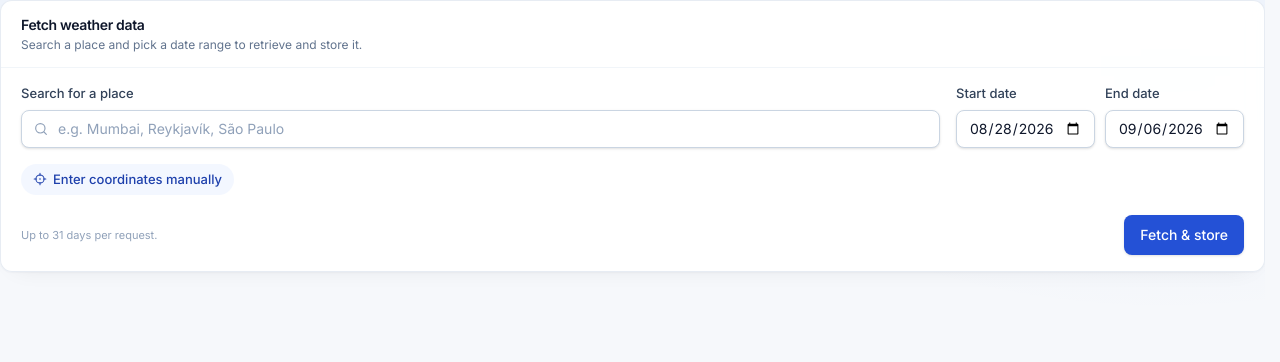
MainFetchPanel › hides coordinate fields until the disclosure is opened
Expected: the field labelled "latitude" is not shown
Click the button "Enter coordinates manually" at (128, 179), box [21,164,234,195]
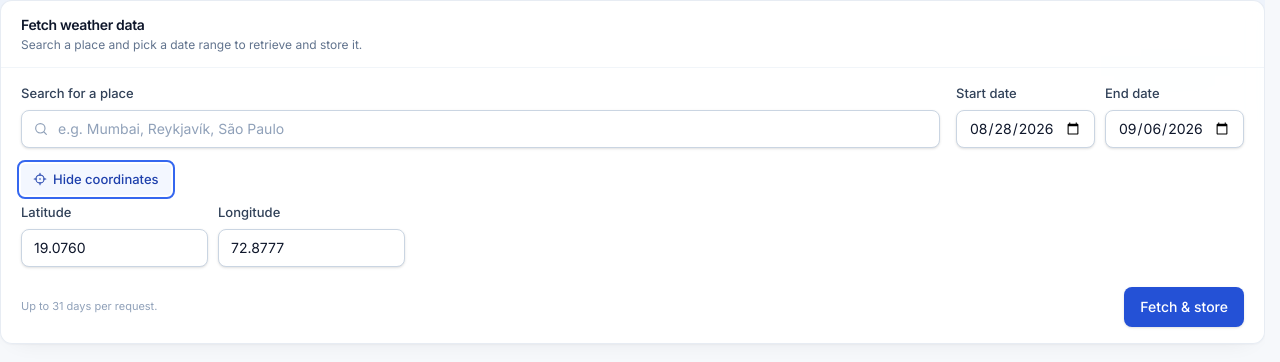
Now the field labelled "Latitude" is shown, box [21,228,208,266]
